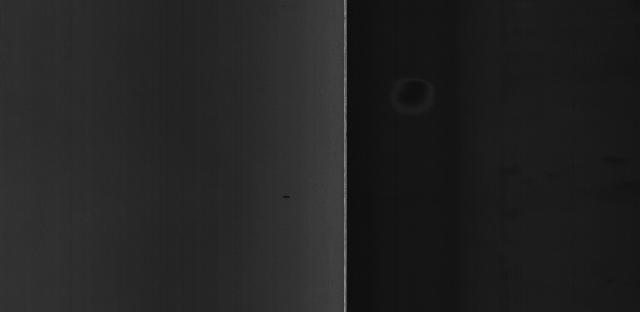oil_spot: (274, 190, 303, 203)
